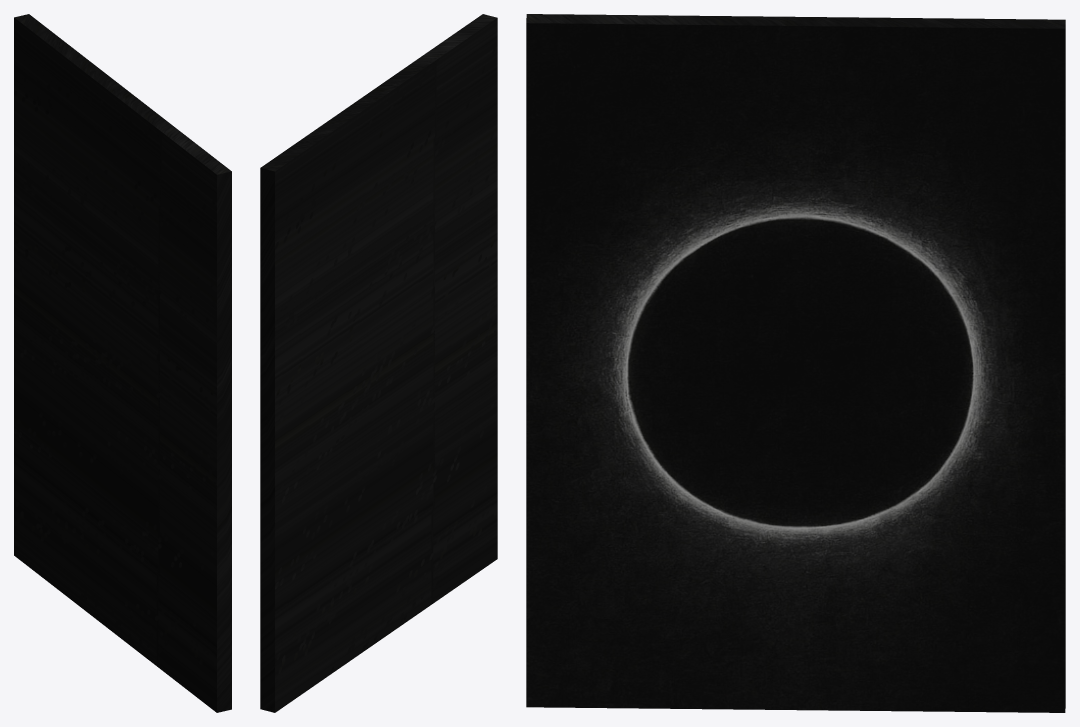
The model's file is 3d eclipse canva3glb.glb.
3 views of the same model, side by side, from view 1: azimuth 30°, elevation 25°; view 2: azimuth 150°, elevation 25°; view 3: azimuth 270°, elevation 25° (orthographic). The views are drawn at different scales.
Parts seen in each view (by area): view 1: world; view 2: world; view 3: world.
Boxes of the visible parts, x1,y1,x2,y2 form: world: (14, 14, 231, 712); world: (260, 14, 497, 712); world: (526, 14, 1065, 712).
Bounding box in the file's own units: 0.0648 × 1.39 × 0.9969.
1 material, 1 textured.
